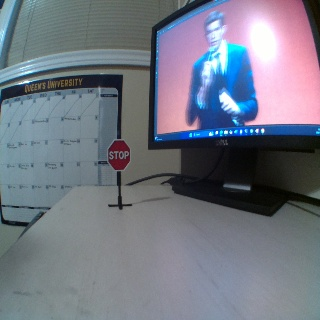sign_stop: (106, 138, 129, 170)
